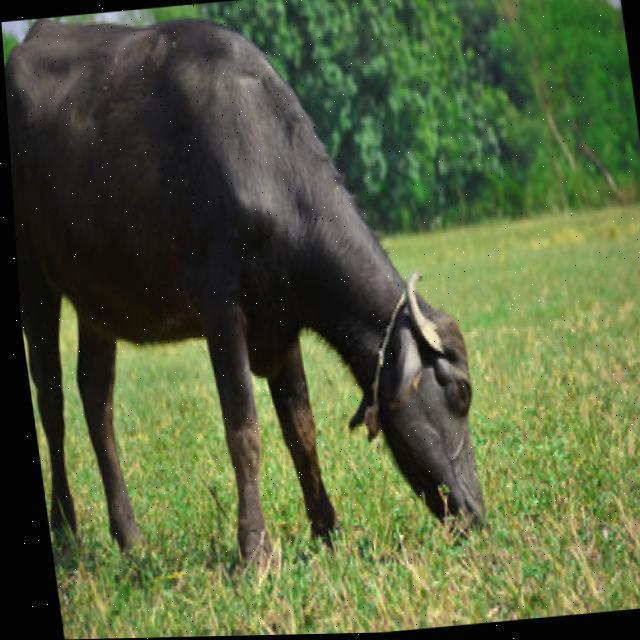Buffalo: (0, 0, 501, 594)
